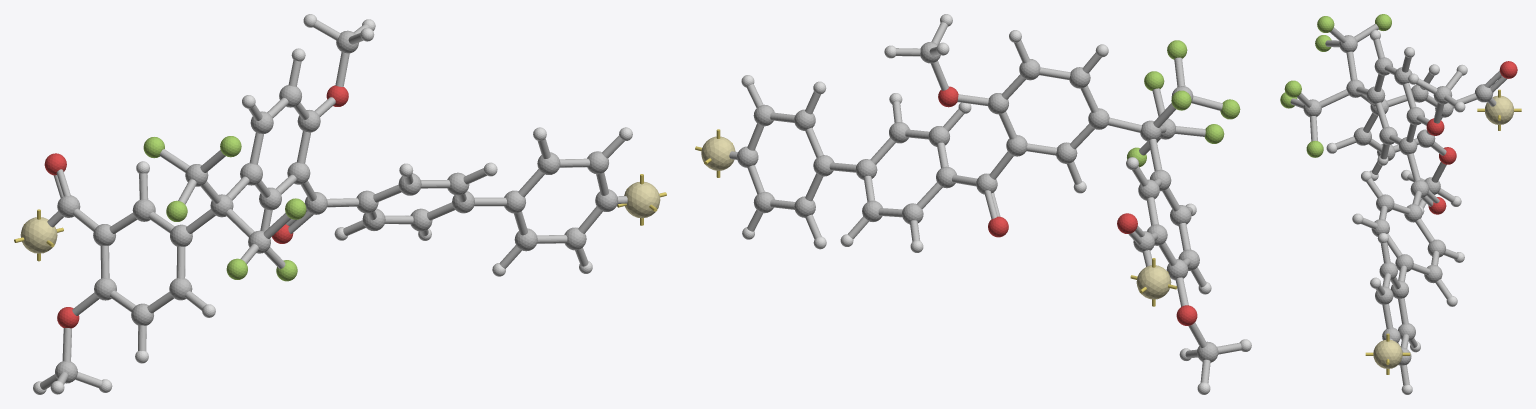
File: organic_first_hit.glb
3 views of the same model, side by side, from view 1: azimuth 30°, elevation 25°; view 2: azimuth 150°, elevation 25°; view 3: azimuth 270°, elevation 25° (orthographic). The views are drawn at different scales.
Visible parts, largest first — view 1: world, dummy_0_1, dummy_24_1; view 2: world, dummy_0_1, dummy_24_1; view 3: world, dummy_24_1, dummy_0_1, atom_2, atom_1, atom_38, atom_13, atom_31, atom_35, atom_30, atom_36, atom_16 (+21 smaller).
Boxes of the visible parts, x1,y1,x2,y2 form: world: (40, 20, 627, 389); dummy_0_1: (20, 217, 57, 253); dummy_24_1: (624, 181, 660, 218); world: (729, 22, 1241, 383); dummy_0_1: (1136, 265, 1171, 299); dummy_24_1: (701, 136, 735, 170); world: (1290, 23, 1507, 385); dummy_24_1: (1373, 340, 1402, 368); dummy_0_1: (1485, 95, 1513, 124); atom_2: (1499, 61, 1517, 78); atom_1: (1475, 84, 1493, 102); atom_38: (1353, 127, 1371, 145); atom_13: (1399, 137, 1417, 155); atom_31: (1317, 16, 1334, 32); atom_35: (1284, 80, 1301, 97); atom_30: (1339, 35, 1357, 52); atom_36: (1306, 140, 1323, 157); atom_16: (1404, 204, 1422, 222).
Size of the model in its own units: 18.08 by 8.94 by 7.82.
